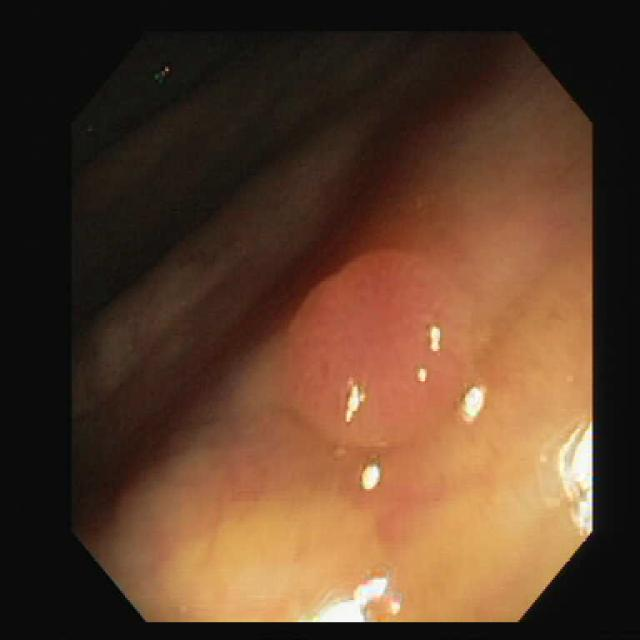tumor: (277, 249, 485, 489)
